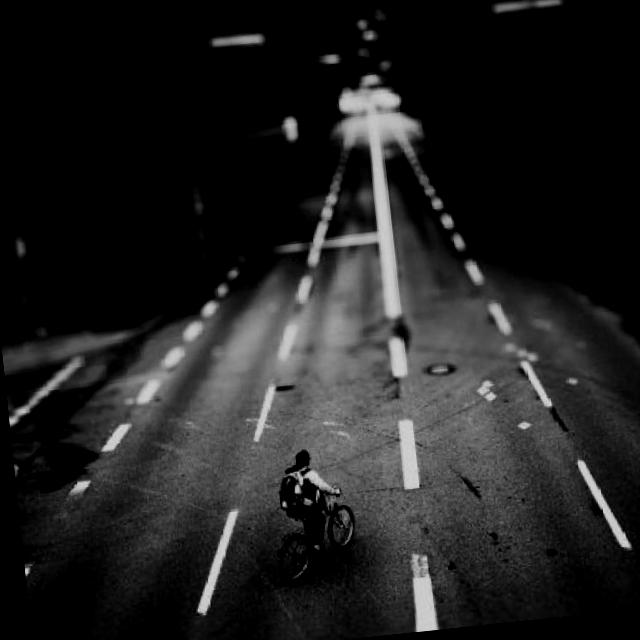Person: (281, 443, 349, 558)
